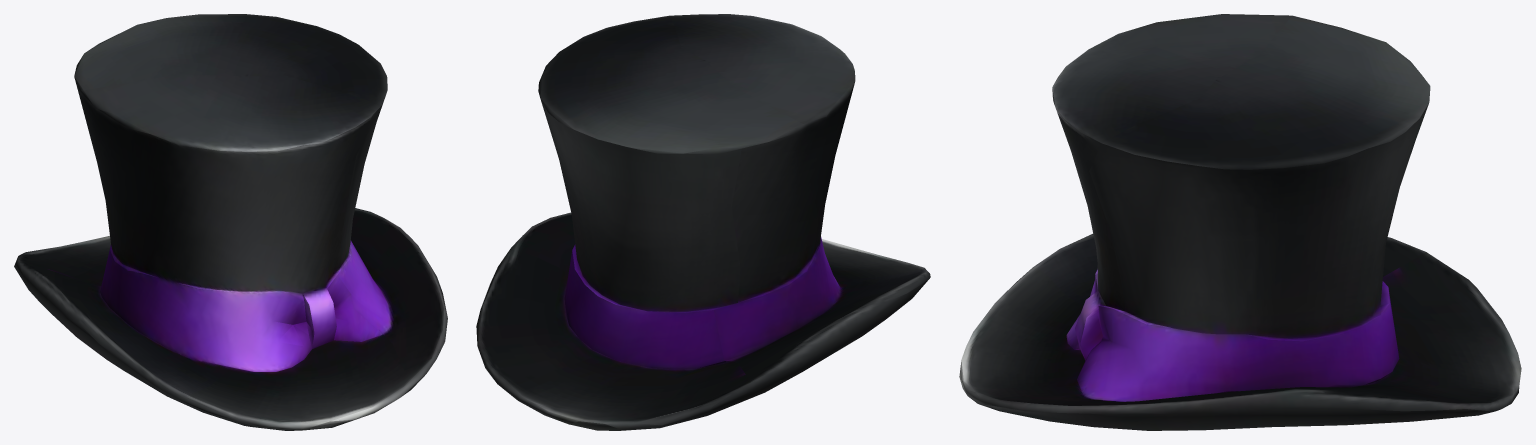
File: monsterTopHat.glb
The picture shows the model from 3 angles, left to right: view 1: azimuth 30°, elevation 25°; view 2: azimuth 150°, elevation 25°; view 3: azimuth 270°, elevation 25°; orthographic projection. The views are drawn at different scales.
Parts seen in each view (by area): view 1: model; view 2: model; view 3: model.
Part boxes in pixels (bbox=[...]): model: bbox=[14, 14, 447, 430]; model: bbox=[476, 14, 930, 430]; model: bbox=[959, 14, 1521, 430].
Bounding box in the file's own units: 1.52 × 1.14 × 1.9.
1 material, 1 textured.
